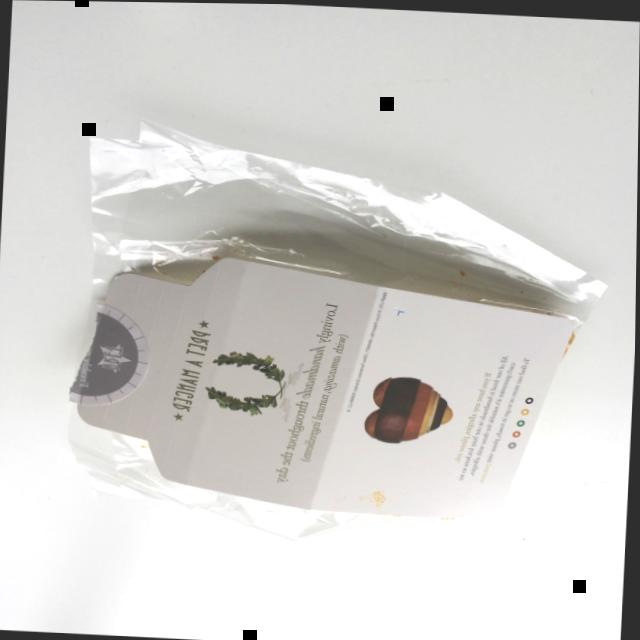Other carton: (78, 255, 574, 518)
Plastic film: (68, 114, 608, 539)
